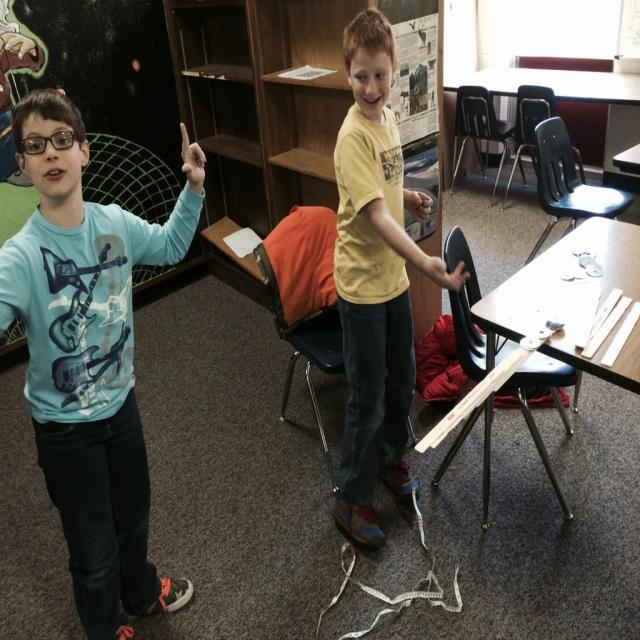chair: (414, 223, 576, 531), (253, 205, 348, 496), (524, 116, 636, 264), (449, 86, 517, 206), (499, 84, 558, 208)
desk: (466, 208, 640, 535)
person: (0, 83, 208, 634), (330, 11, 463, 549)
